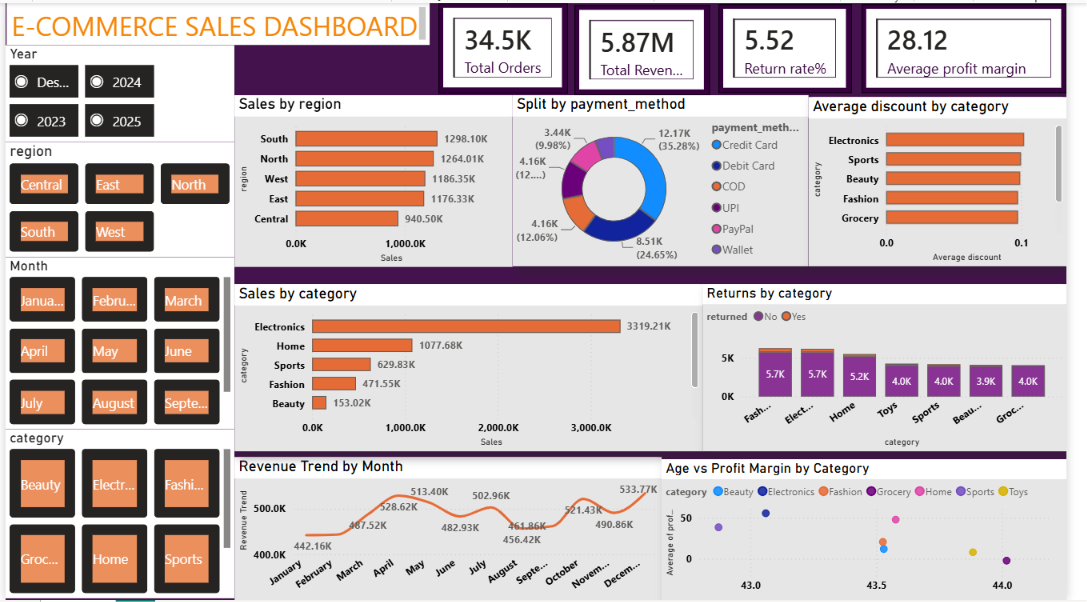

Layout of this report page (visuals, bound fields, positions):
{"tool":"powerbi","page":{"name":"Page 1","canvas":[1280,720],"ordinal":0},"visuals":[{"type":"cardVisual","fields":{"Data":["Sum(ecommerce_sales_34500.total_amount)"]},"box":[686.5,2.4,162.9,108.6],"z":0},{"type":"cardVisual","fields":{"Data":["CountNonNull(ecommerce_sales_34500.order_id)"]},"box":[522.4,0,155.6,108.6],"z":1000},{"type":"cardVisual","fields":{"Data":["Avg(ecommerce_sales_34500.profit_margin)"]},"box":[1032.7,1.2,247.3,107.4],"z":2000},{"type":"lineChart","fields":{"Category":["ecommerce_sales_34500.order_date.Variation.Date Hierarchy.Month"],"Y":["Sum(ecommerce_sales_34500.total_amount)"]},"box":[276.3,547.7,515.2,172.5],"z":3000},{"type":"barChart","fields":{"Category":["ecommerce_sales_34500.category"],"Y":["Sum(ecommerce_sales_34500.total_amount)"]},"box":[276.3,339,564.6,201.5],"z":4000},{"type":"donutChart","fields":{"Category":["ecommerce_sales_34500.payment_method"],"Y":["CountNonNull(ecommerce_sales_34500.order_id)"]},"box":[611.7,111,357.1,206.3],"z":5000},{"type":"columnChart","title":"Returns by category","fields":{"Category":["ecommerce_sales_34500.category"],"Y":["CountNonNull(ecommerce_sales_34500.order_date)"],"Series":["ecommerce_sales_34500.returned"]},"box":[840.9,339,439.1,201.5],"z":6000},{"type":"scatterChart","title":"Age vs Profit Margin by Category","fields":{"X":["Avg(ecommerce_sales_34500.customer_age)"],"Y":["Avg(ecommerce_sales_34500.profit_margin)"],"Series":["ecommerce_sales_34500.category"]},"box":[791.4,550.1,488.6,170.1],"z":7000},{"type":"clusteredBarChart","fields":{"Category":["ecommerce_sales_34500.category"],"Y":["Avg(ecommerce_sales_34500.discount)"]},"box":[968.8,113.4,311.3,203.9],"z":8000},{"type":"clusteredBarChart","fields":{"Category":["ecommerce_sales_34500.region"],"Y":["Sum(ecommerce_sales_34500.total_amount)"]},"box":[276.3,111,335.4,207.5],"z":9000},{"type":"cardVisual","fields":{"Data":["ecommerce_sales_34500.return rate%"]},"box":[860.2,1.2,160.5,107.4],"z":10000},{"type":"advancedSlicerVisual","fields":{"Values":["ecommerce_sales_34500.region"]},"box":[0,167.7,276.3,138.7],"z":11000},{"type":"advancedSlicerVisual","fields":{"Values":["ecommerce_sales_34500.category"]},"box":[0,513.9,276.3,203.9],"z":12000},{"type":"advancedSlicerVisual","fields":{"Values":["ecommerce_sales_34500.order_date.Variation.Date Hierarchy.Month"]},"box":[0,306.4,276.3,207.5],"z":13000},{"type":"advancedSlicerVisual","fields":{"Values":["ecommerce_sales_34500.order_date.Variation.Date Hierarchy.Year"]},"box":[0,50.7,276.3,117],"z":14000},{"type":"textbox","box":[1.2,0,510.3,50.7],"z":15000}]}

Visuals, with their boxes in screenshot pixels (x1, y1, x2, y2), scaled from the page's 1280x720 canvas onto the 1087x602 screenshot:
cardVisual - Sum(ecommerce_sales_34500.total_amount): rect(583, 2, 721, 93)
cardVisual - CountNonNull(ecommerce_sales_34500.order_id): rect(444, 0, 576, 91)
cardVisual - Avg(ecommerce_sales_34500.profit_margin): rect(877, 1, 1086, 91)
lineChart - ecommerce_sales_34500.order_date.Variation.Date Hierarchy.Month x Sum(ecommerce_sales_34500.total_amount): rect(235, 458, 672, 601)
barChart - ecommerce_sales_34500.category x Sum(ecommerce_sales_34500.total_amount): rect(235, 283, 714, 452)
donutChart - ecommerce_sales_34500.payment_method x CountNonNull(ecommerce_sales_34500.order_id): rect(519, 93, 823, 265)
"Returns by category" columnChart: rect(714, 283, 1086, 452)
"Age vs Profit Margin by Category" scatterChart: rect(672, 460, 1086, 601)
clusteredBarChart - ecommerce_sales_34500.category x Avg(ecommerce_sales_34500.discount): rect(823, 95, 1086, 265)
clusteredBarChart - ecommerce_sales_34500.region x Sum(ecommerce_sales_34500.total_amount): rect(235, 93, 519, 266)
cardVisual - ecommerce_sales_34500.return rate%: rect(730, 1, 867, 91)
advancedSlicerVisual - ecommerce_sales_34500.region: rect(0, 140, 235, 256)
advancedSlicerVisual - ecommerce_sales_34500.category: rect(0, 430, 235, 600)
advancedSlicerVisual - ecommerce_sales_34500.order_date.Variation.Date Hierarchy.Month: rect(0, 256, 235, 430)
advancedSlicerVisual - ecommerce_sales_34500.order_date.Variation.Date Hierarchy.Year: rect(0, 42, 235, 140)
textbox: rect(1, 0, 434, 42)
